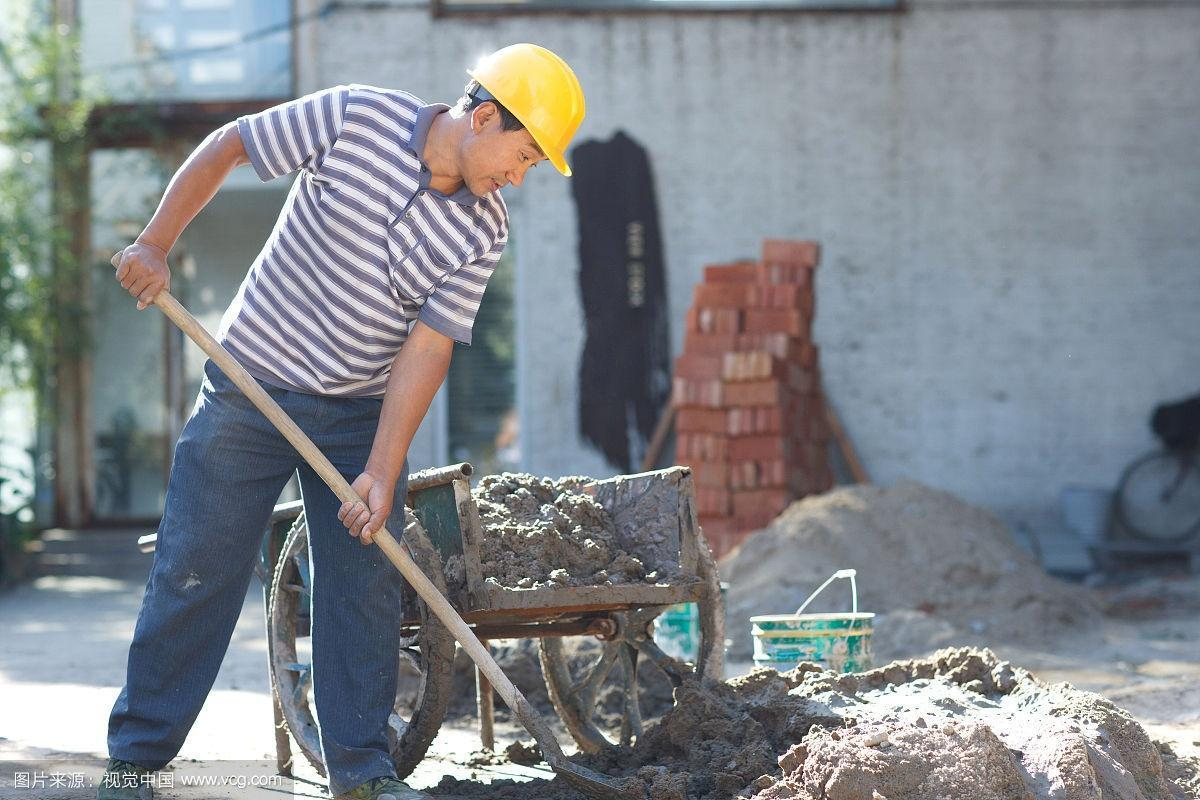helmet: (462, 39, 595, 182)
no-vest: (231, 80, 483, 418)
person: (101, 38, 598, 800)
